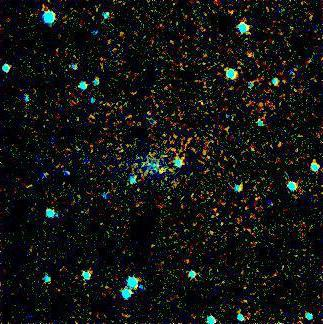star: (148, 154, 178, 184)
